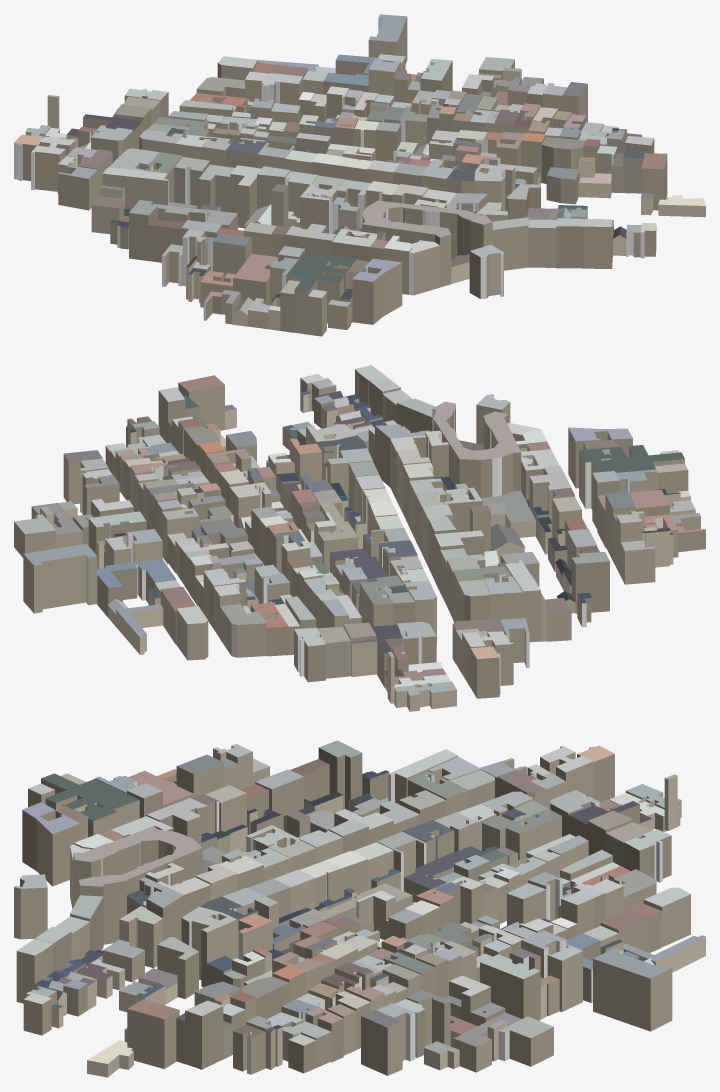
3 renders of one model, top to bottom at view 1: azimuth 30°, elevation 25°; view 2: azimuth 150°, elevation 25°; view 3: azimuth 270°, elevation 25°, orthographic. The views are drawn at different scales.
Visible parts, largest first — view 1: tuile; view 2: tuile; view 3: tuile.
Part boxes in pixels (left/top/right/bottom): tuile: left=14, top=14, right=705, bottom=336; tuile: left=14, top=365, right=705, bottom=711; tuile: left=14, top=740, right=705, bottom=1077.
Bounding box in the file's own units: 265 × 27.2 × 269.
